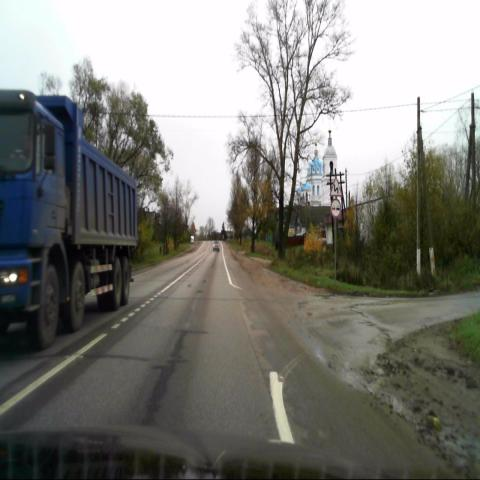1_12_2: (330, 177, 342, 196)
